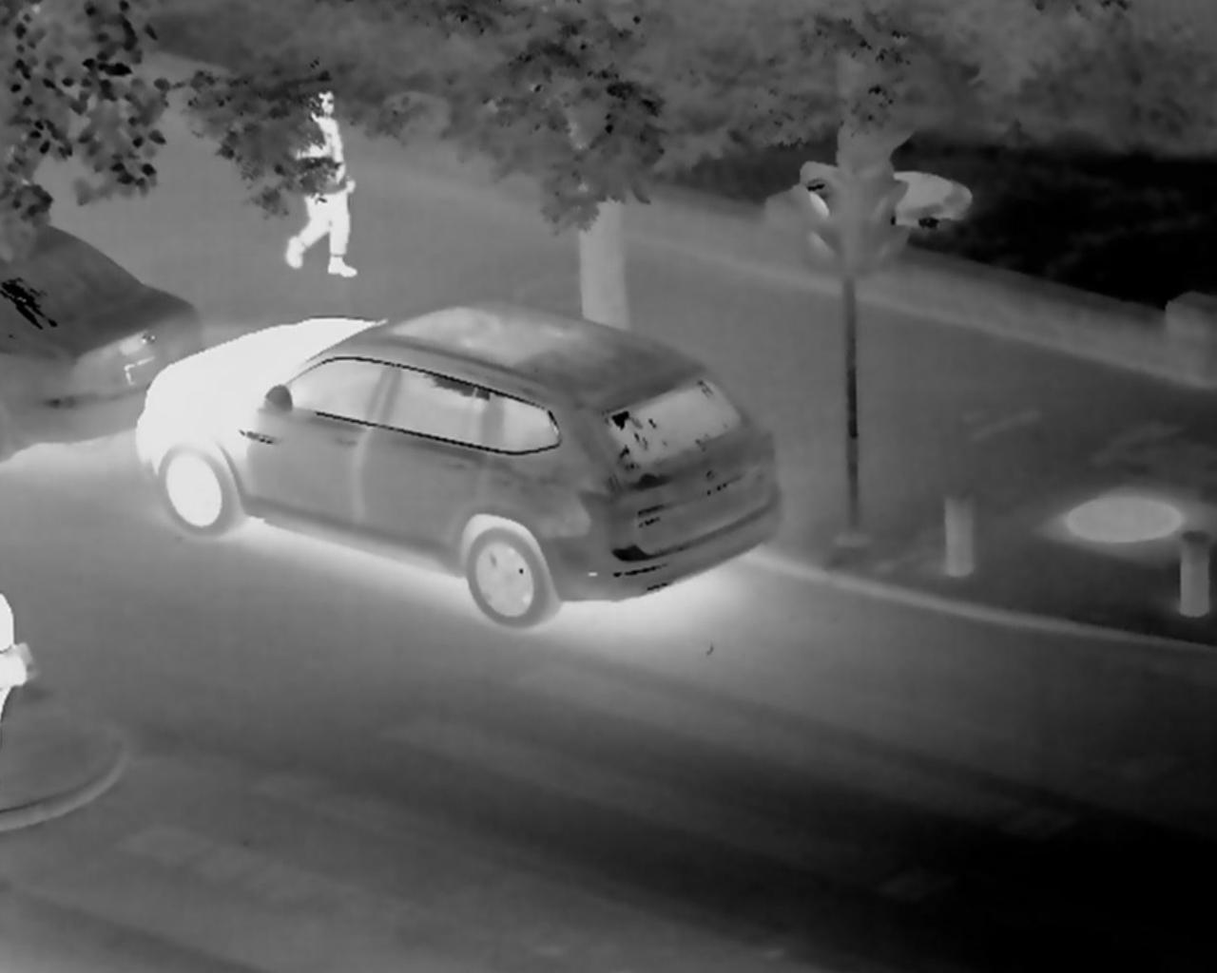person: (296, 74, 414, 330)
